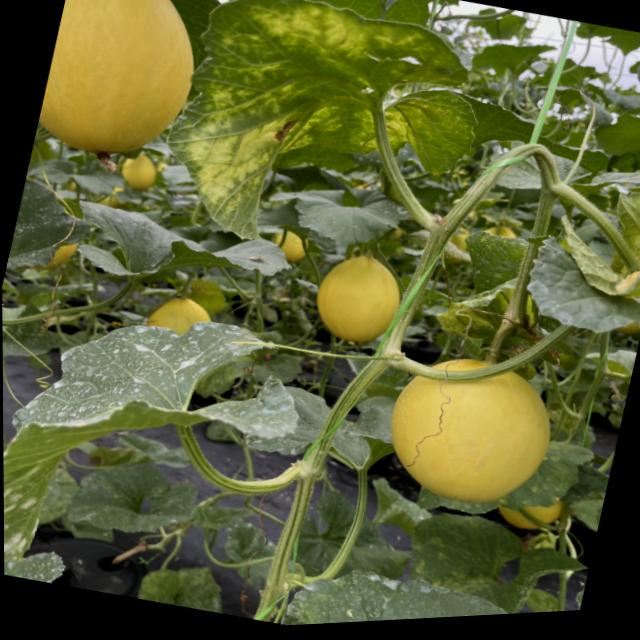downy mildew: (146, 0, 507, 291)
powdery mildew: (2, 257, 318, 487)
